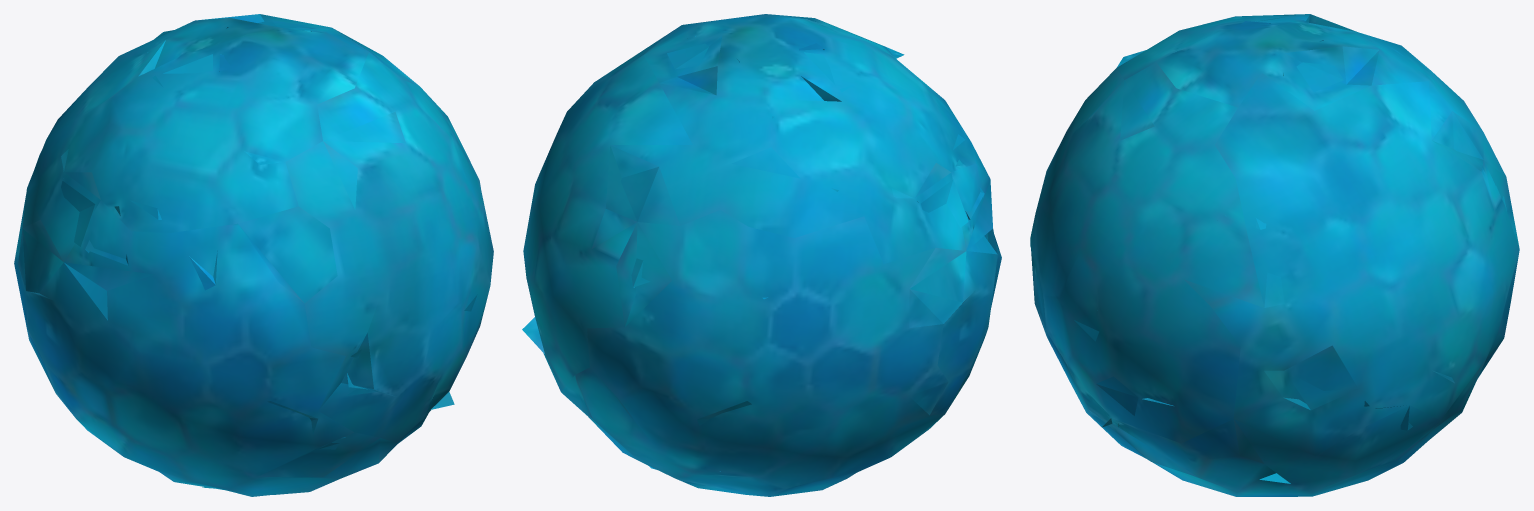
File: 防禦護盾.glb
3 renders of one model, left to right at view 1: azimuth 30°, elevation 25°; view 2: azimuth 150°, elevation 25°; view 3: azimuth 270°, elevation 25°, orthographic.
Visible parts, largest first — view 1: geometry_0; view 2: geometry_0; view 3: geometry_0.
Boxes of the visible parts, box(x1,y1,x2,y2) form: geometry_0: box(14, 14, 493, 496); geometry_0: box(522, 14, 1001, 496); geometry_0: box(1030, 14, 1519, 496).
Size of the model in its own units: 0.9879 by 0.9949 by 0.9921.
1 material, 1 textured.
